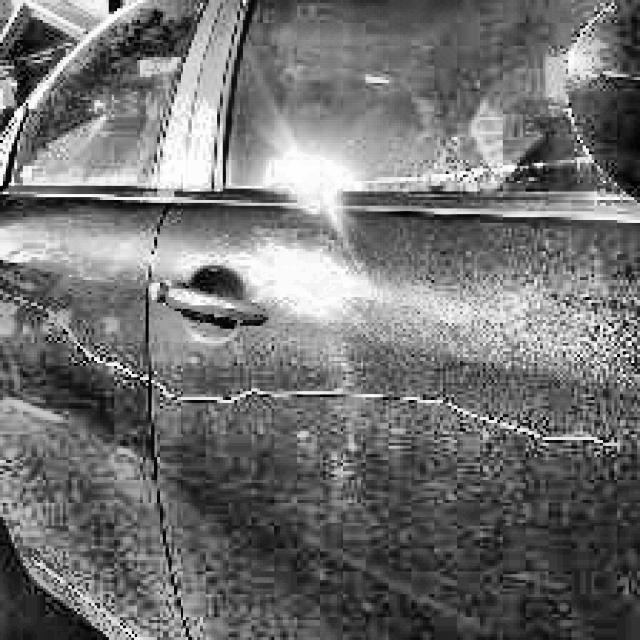door_scratch: (143, 355, 616, 456), (22, 291, 126, 374)
